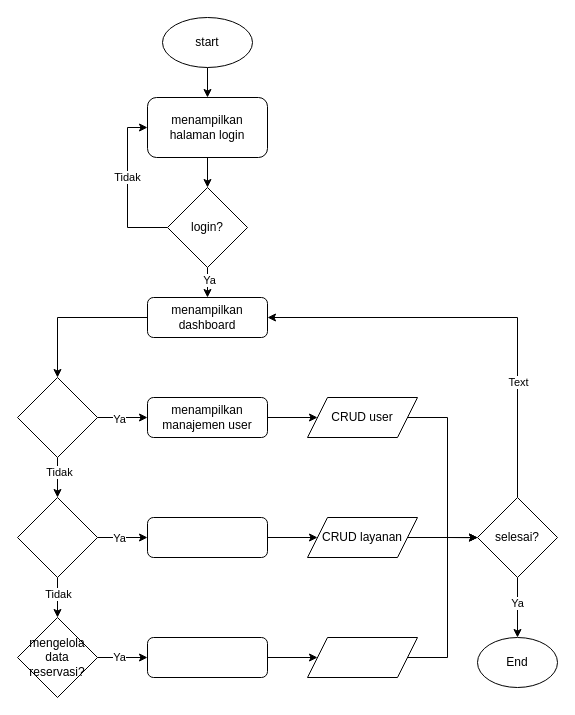
This 575x715 diagram has some shape labels left out. The shapes that lost their labels are listed below. From the top down, each one's box as (x1, y1, x2, y2) in pixels, then its label:
(16, 376, 98, 458): mengelola data user?
(16, 496, 98, 578): mengelola data layanan?
(146, 516, 268, 558): menampilkan manajemen layanan
(146, 636, 268, 678): menampilkan manajemen reservasi
(306, 636, 418, 678): CRUD reservasi
